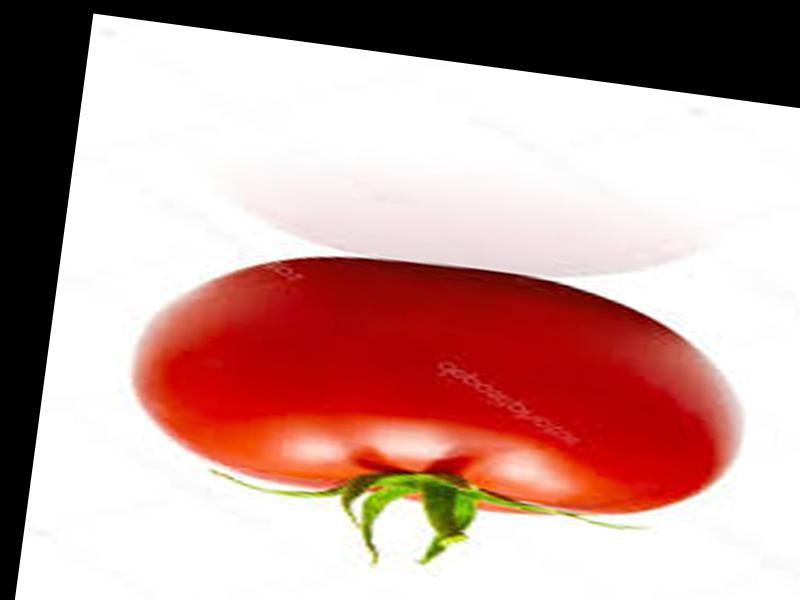Tomato: (117, 226, 760, 543)
